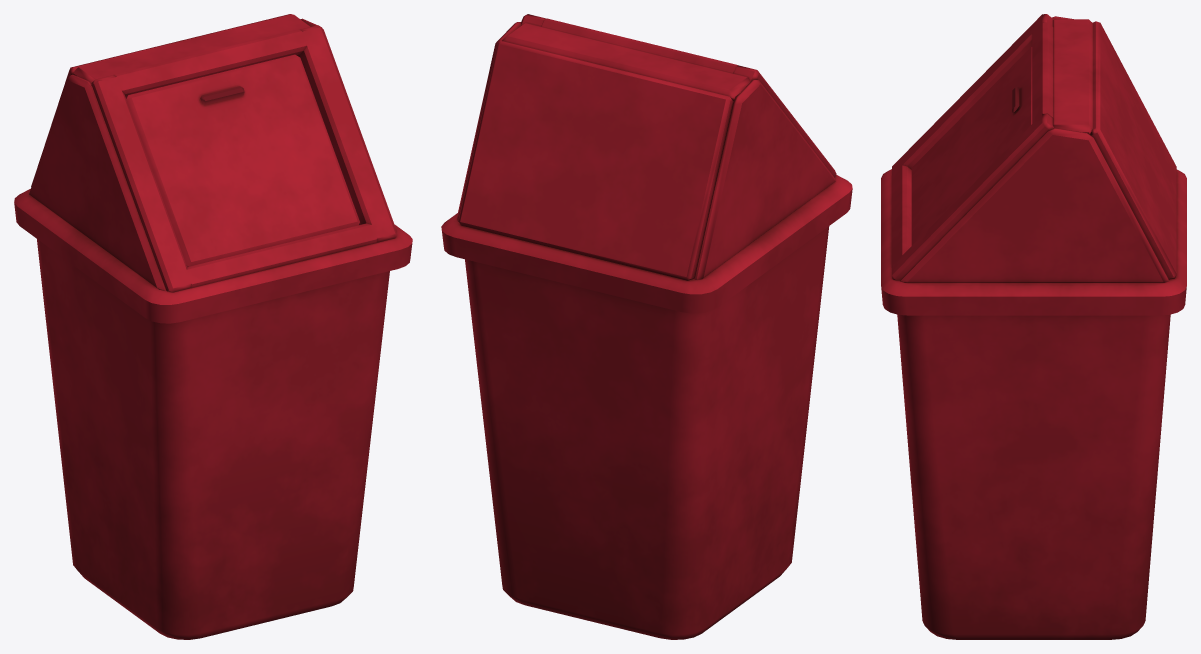
File: cesto_lixo_sujo_realista.glb
3 views of the same model, side by side, from view 1: azimuth 30°, elevation 25°; view 2: azimuth 150°, elevation 25°; view 3: azimuth 270°, elevation 25° (orthographic). The views are drawn at different scales.
Parts seen in each view (by area): view 1: Lixeira_Vermelha_Papel, Portinhola_Pivo_X; view 2: Lixeira_Vermelha_Papel; view 3: Lixeira_Vermelha_Papel, Portinhola_Pivo_X.
Boxes of the visible parts, box(x1,y1,x2,y2) form: Lixeira_Vermelha_Papel: box(14, 14, 412, 639); Portinhola_Pivo_X: box(126, 54, 359, 266); Lixeira_Vermelha_Papel: box(441, 14, 852, 639); Lixeira_Vermelha_Papel: box(881, 14, 1186, 639); Portinhola_Pivo_X: box(911, 47, 1032, 245).
Size of the model in its own units: 0.27 by 0.5141 by 0.27.
Materials: 1 (1 with a texture image).
